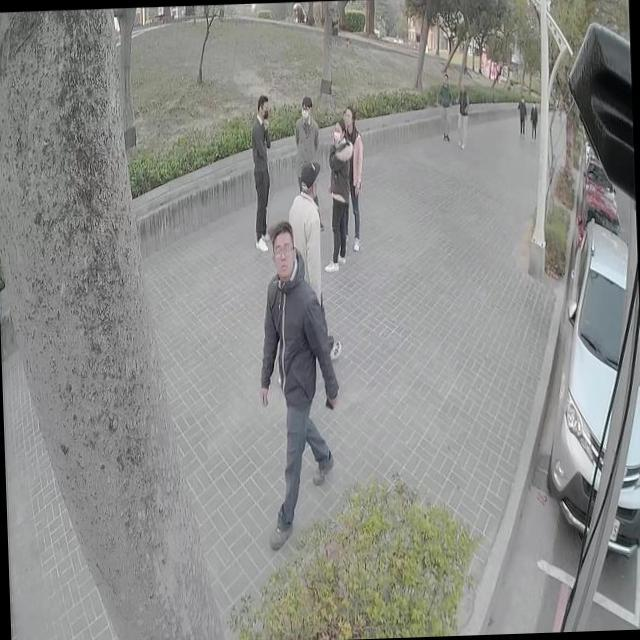person: (247, 216, 346, 550), (284, 156, 342, 367), (318, 114, 357, 275), (338, 94, 369, 250), (248, 96, 276, 247), (294, 93, 318, 165), (434, 70, 454, 144), (454, 76, 474, 150), (516, 95, 528, 134), (528, 99, 538, 138)
